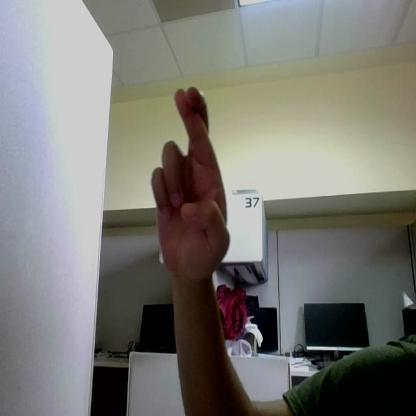R: (151, 87, 229, 274)
